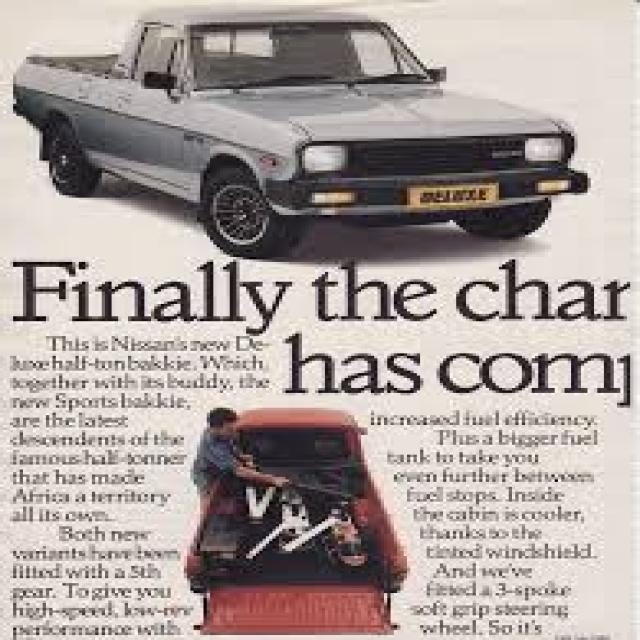Pickup Trucks: (10, 8, 591, 260)
